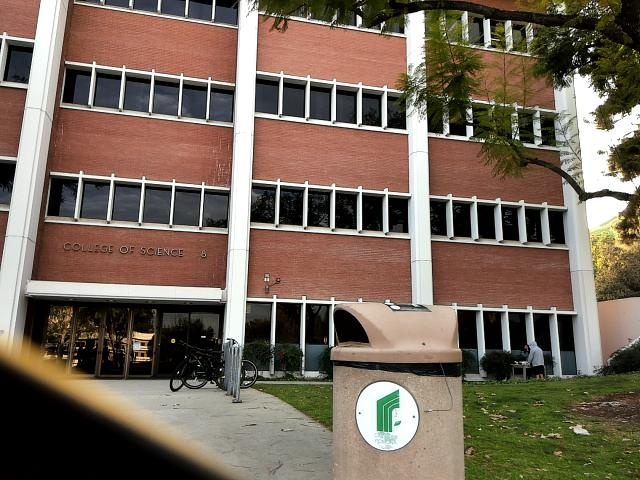trashcan: (309, 286, 473, 480)
